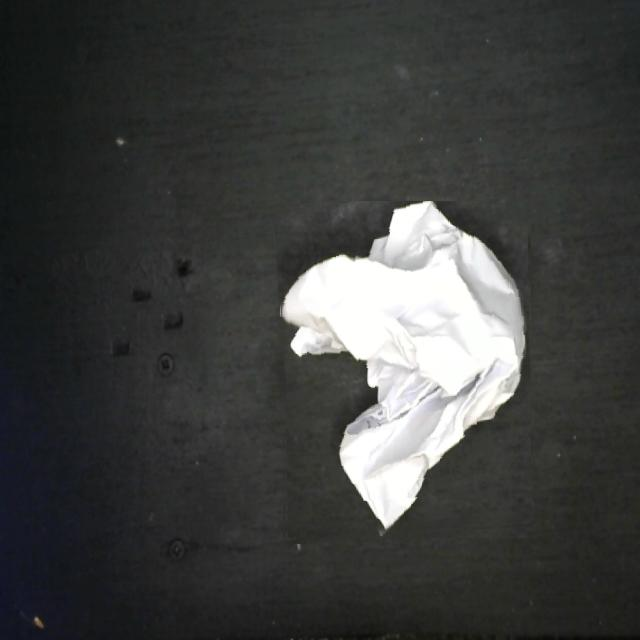biodegradable: (279, 201, 531, 541)
